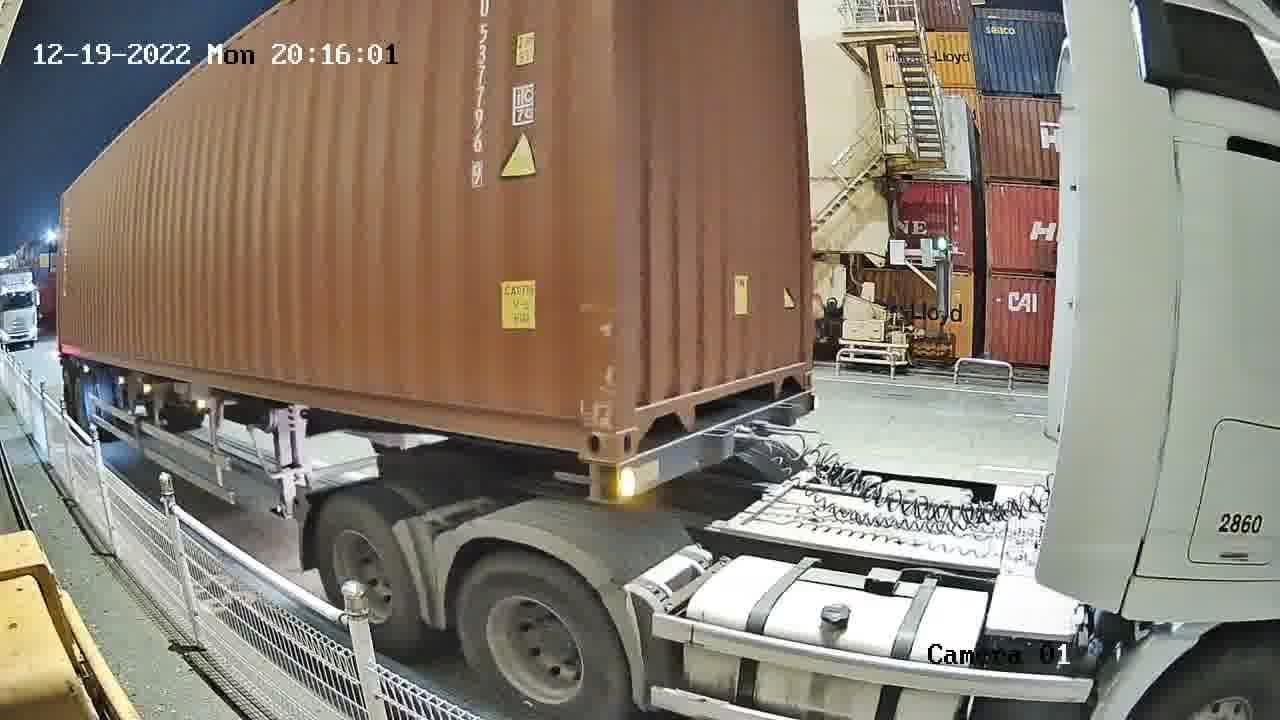Chassis: (580, 390, 816, 502)
Cone: (579, 457, 614, 503)
Hole_L: (616, 382, 666, 462)
Hole_R: (544, 387, 616, 461), (782, 353, 815, 395)
Tire: (455, 553, 623, 717), (317, 499, 418, 646)
